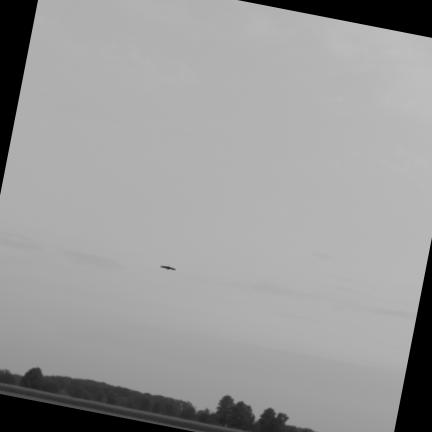Shahed: (161, 265, 175, 270)
